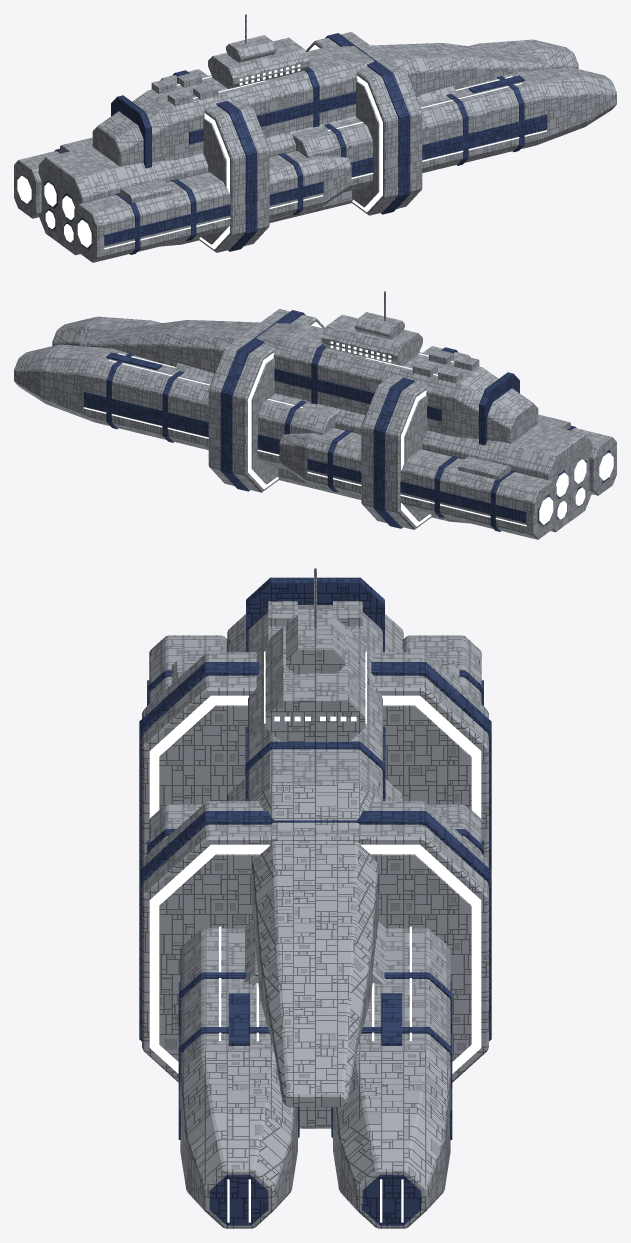
The model's file is lumen_lod0.glb.
3 renders of one model, top to bottom at view 1: azimuth 30°, elevation 25°; view 2: azimuth 150°, elevation 25°; view 3: azimuth 270°, elevation 25°, orthographic. The views are drawn at different scales.
Parts seen in each view (by area): view 1: lumen_lod0_body, lumen_lod0_glow; view 2: lumen_lod0_body, lumen_lod0_glow; view 3: lumen_lod0_body, lumen_lod0_glow.
Part boxes in pixels (x1,y1,x2,y2): lumen_lod0_body: (14, 14, 616, 262); lumen_lod0_glow: (17, 45, 547, 249); lumen_lod0_body: (14, 291, 616, 539); lumen_lod0_glow: (83, 322, 613, 526); lumen_lod0_body: (139, 568, 491, 1228); lumen_lod0_glow: (149, 651, 481, 1222).
Size of the model in its own units: 21.1 by 7.75 by 6.
2 materials, 1 textured.
